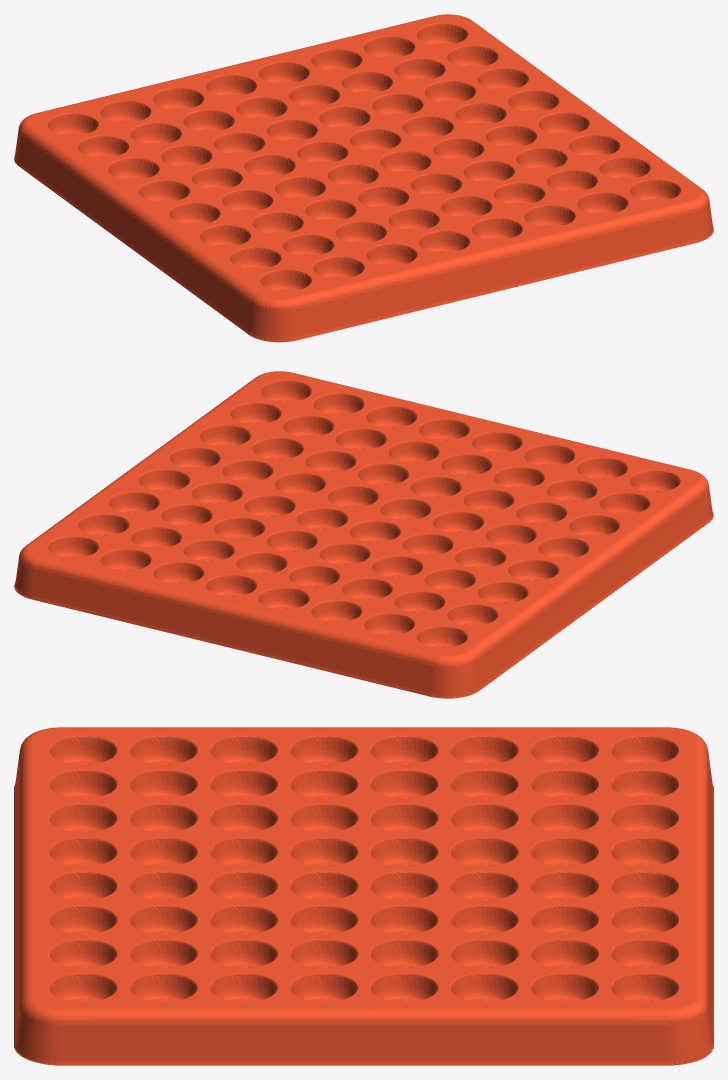
Rendered from mold.glb.
3 views of the same model, one above another, from view 1: azimuth 30°, elevation 25°; view 2: azimuth 150°, elevation 25°; view 3: azimuth 270°, elevation 25° (orthographic). The views are drawn at different scales.
Parts seen in each view (by area): view 1: geometry_0; view 2: geometry_0; view 3: geometry_0.
Boxes of the visible parts, x1,y1,x2,y2 form: geometry_0: (14,14,713,342); geometry_0: (14,371,713,698); geometry_0: (14,727,713,1065).
Bounding box in the file's own units: 0.1355 × 0.0105 × 0.1355.
